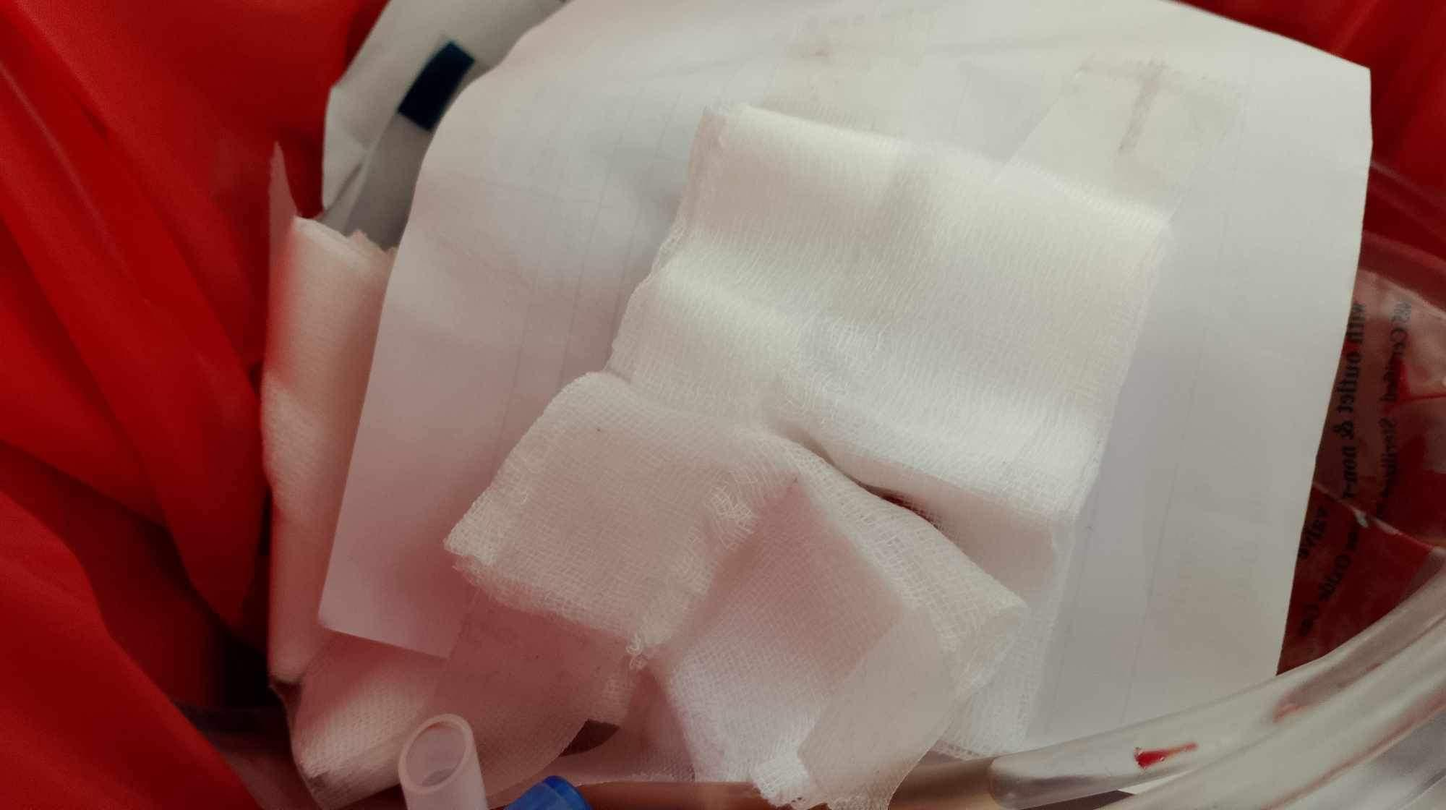Pathological: (260, 3, 1378, 804)
Sharps: (985, 563, 1443, 807), (322, 38, 477, 250)
